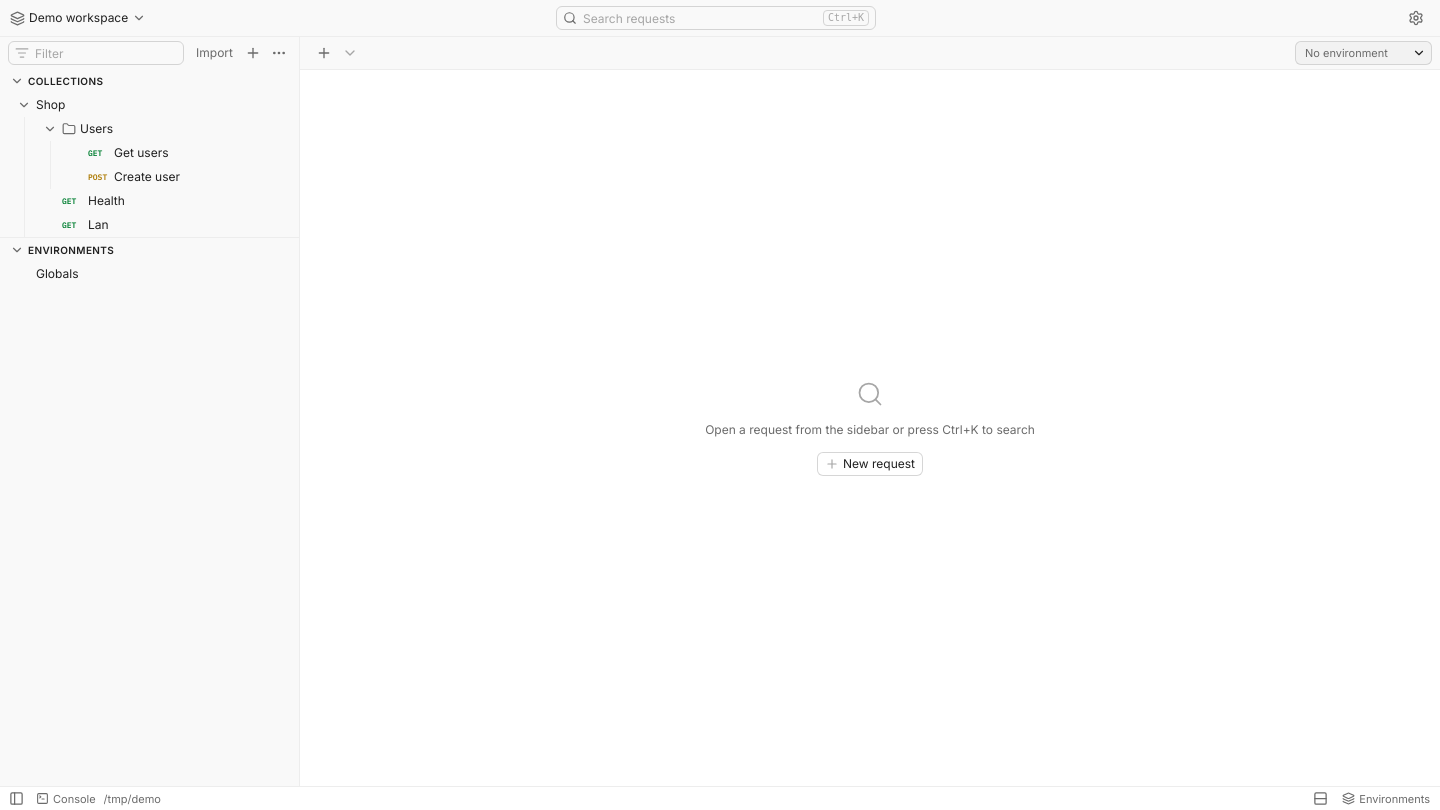
configuration › flags Virtual users = 0 and disables Start
Right-click the list item "Health".
right_click(93, 200)  # box [62,193,125,208]
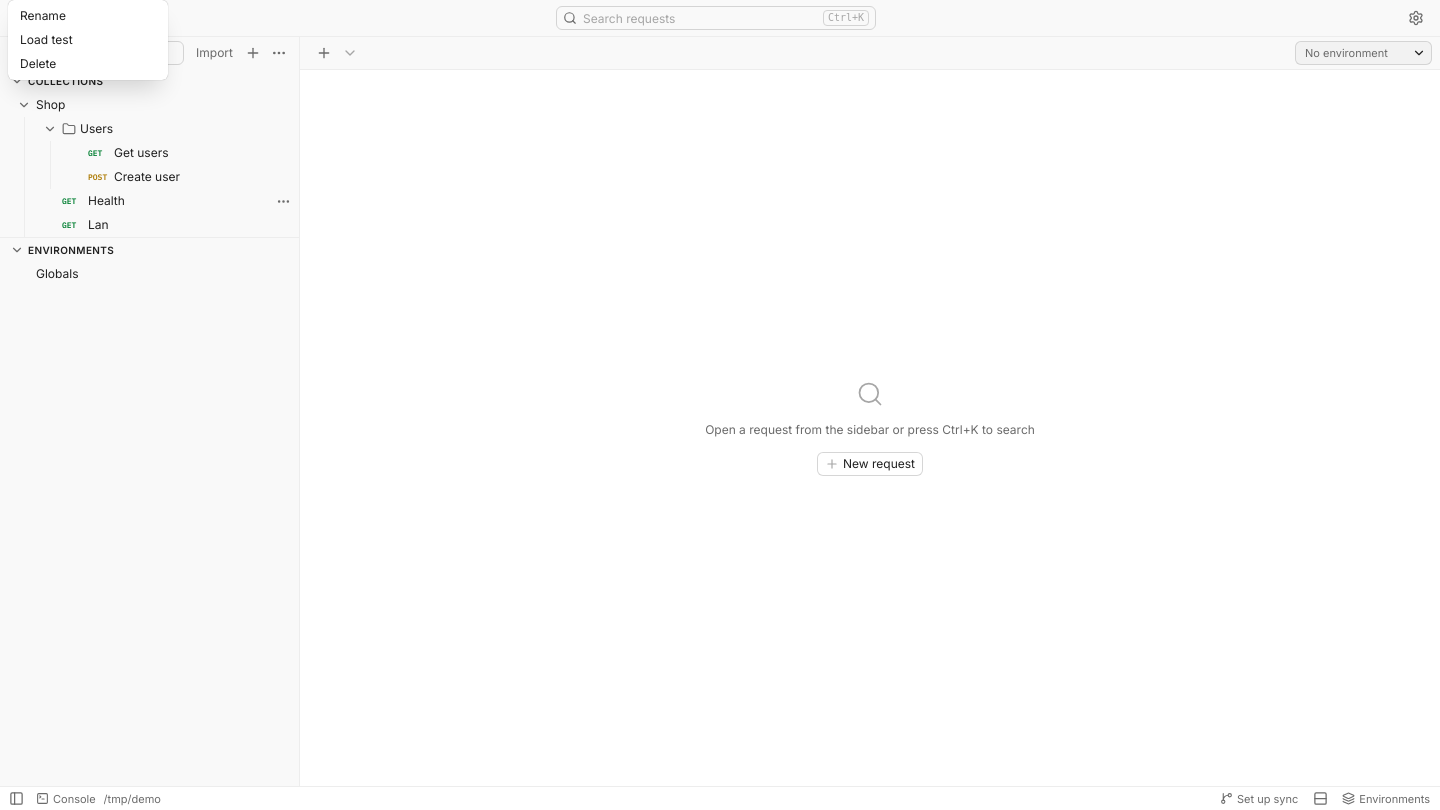
Click the menu item "Load test".
click(88, 40)  # box [12,28,164,52]
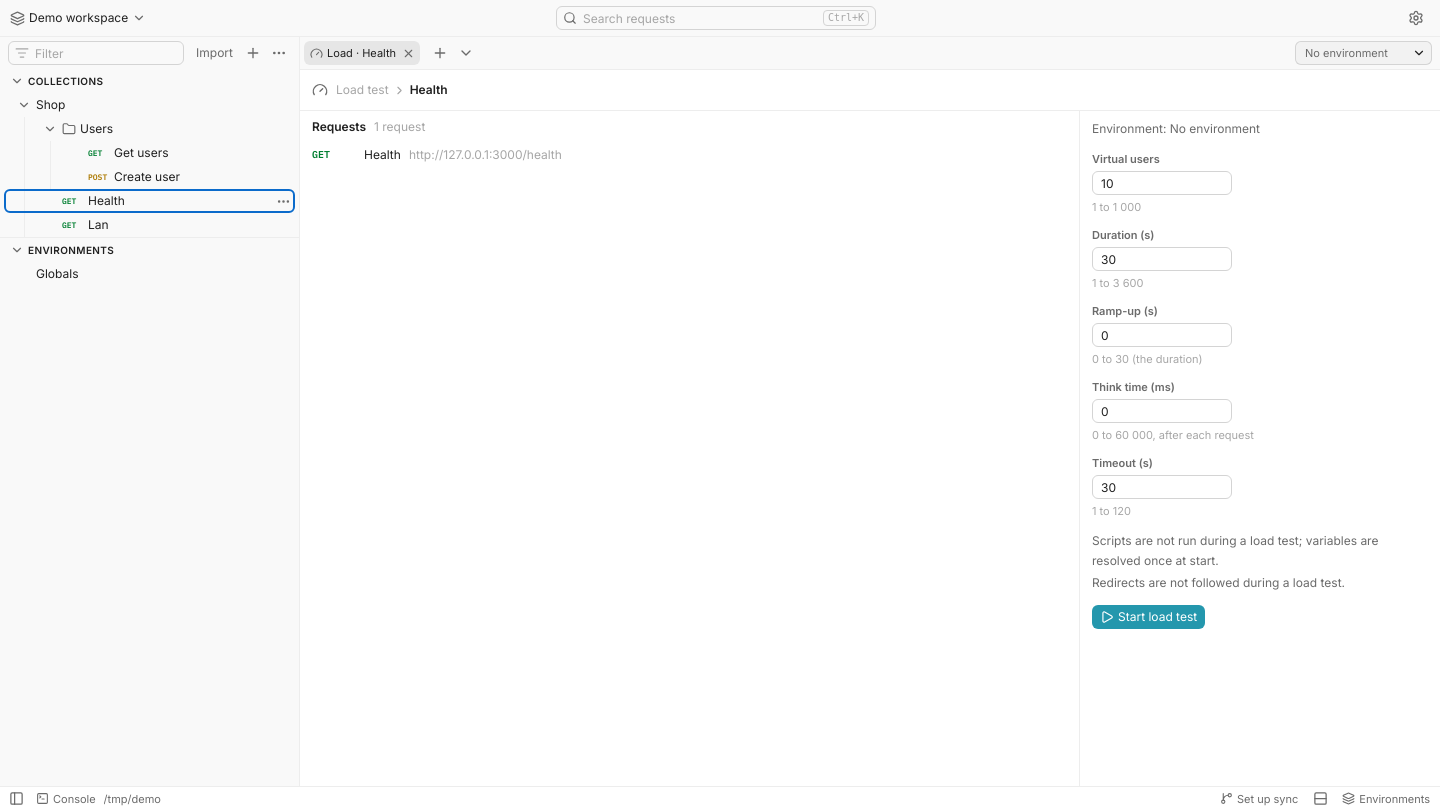
Replace the text in the number field labelled "Virtual users" with "0" at point(1162, 183), box [1092,171,1232,195]
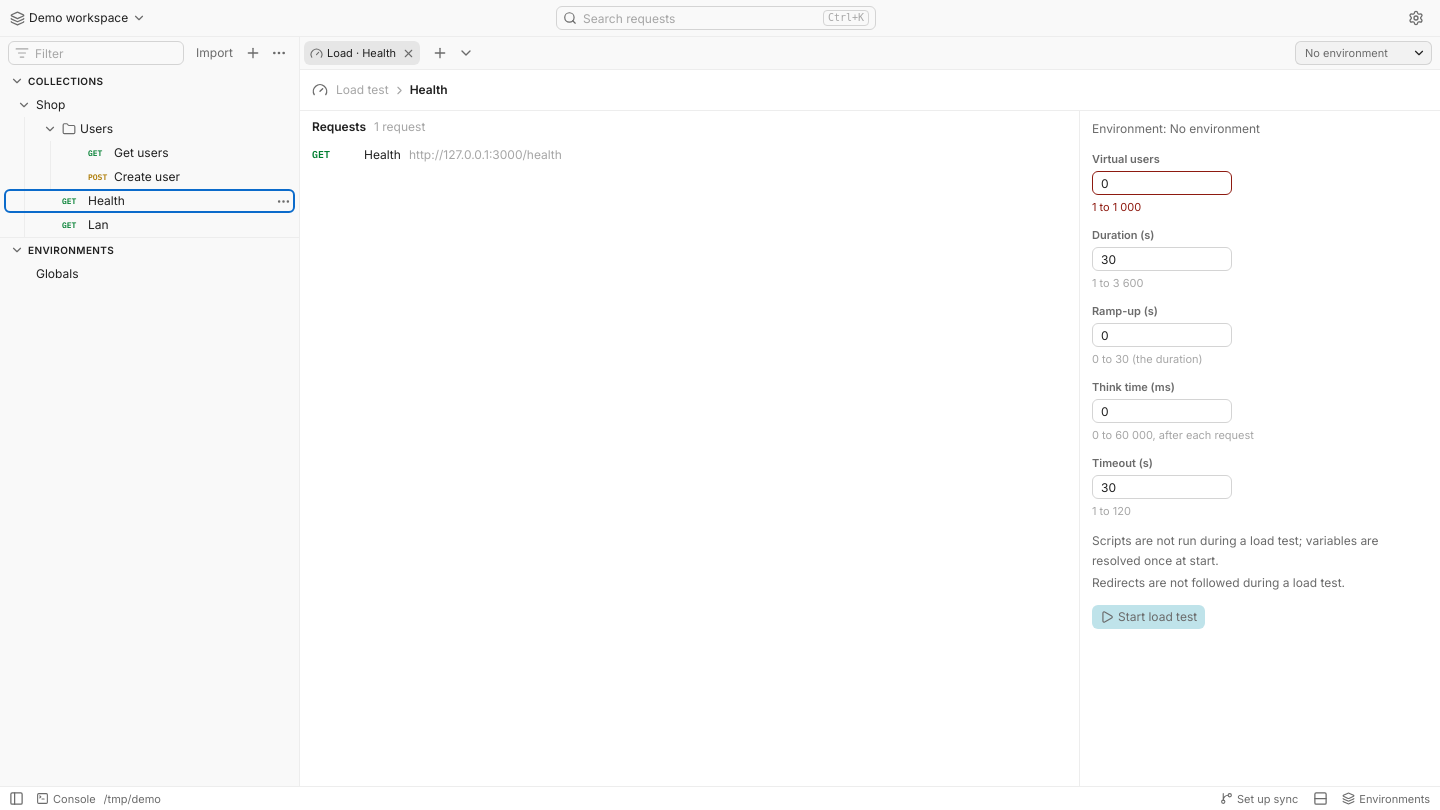
Expected: the button "Start load test" is disabled, [1092,605,1205,629]
